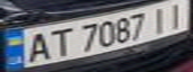0: (97, 17, 118, 47)
7: (75, 20, 100, 52), (127, 10, 154, 39)
8: (112, 15, 136, 44)
A: (18, 29, 54, 63)
I: (145, 3, 175, 34), (160, 1, 193, 29)
T: (42, 25, 75, 58)
